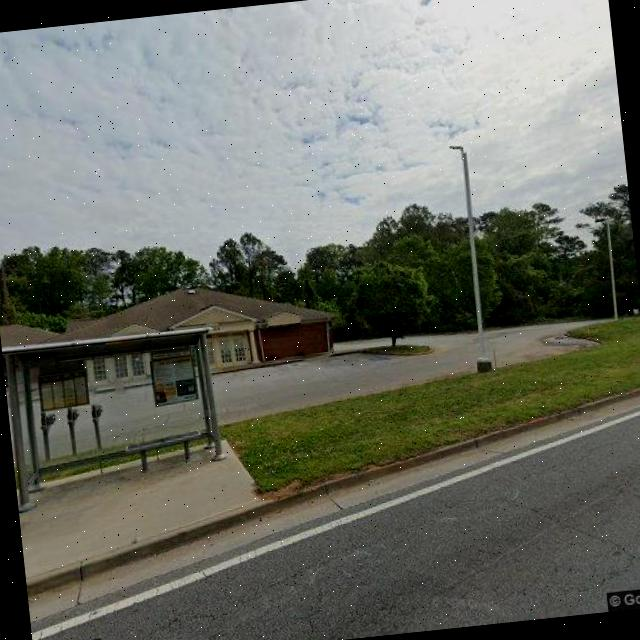seating: (123, 426, 205, 478)
shelter: (1, 324, 231, 514)
